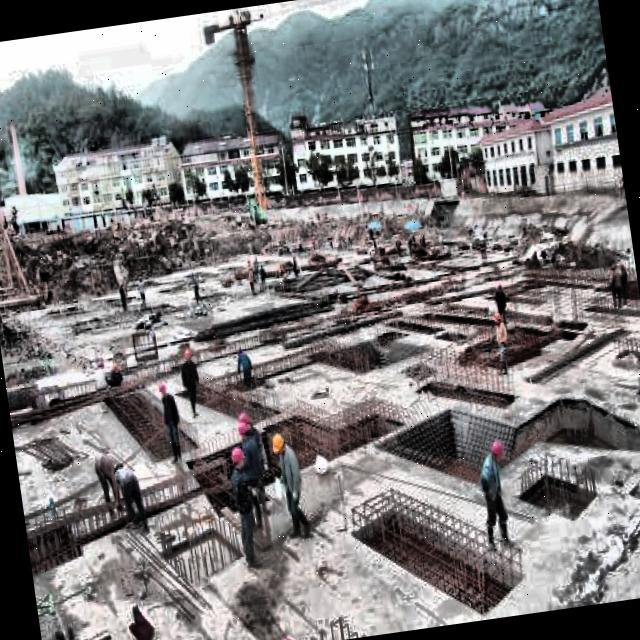helmet: (228, 444, 248, 476), (270, 430, 288, 460), (489, 439, 506, 462), (154, 376, 170, 400), (236, 418, 252, 439), (490, 309, 504, 328), (183, 344, 194, 364)
